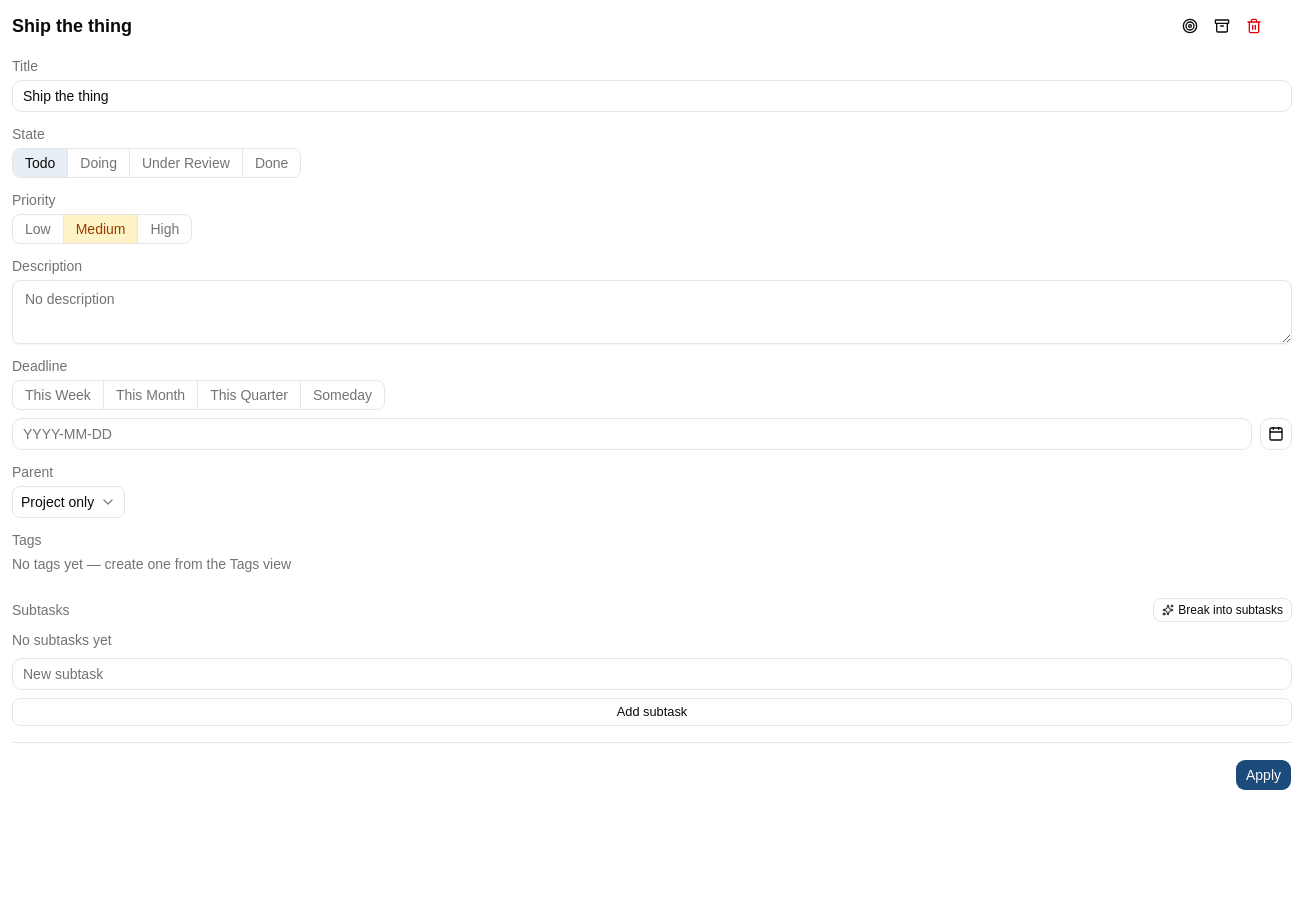
Test: TaskDetailPanel — fuzzy deadline › shows an error when setting a fuzzy deadline fails
Click the button "This Week".
click(58, 395)  # box [13,381,103,409]
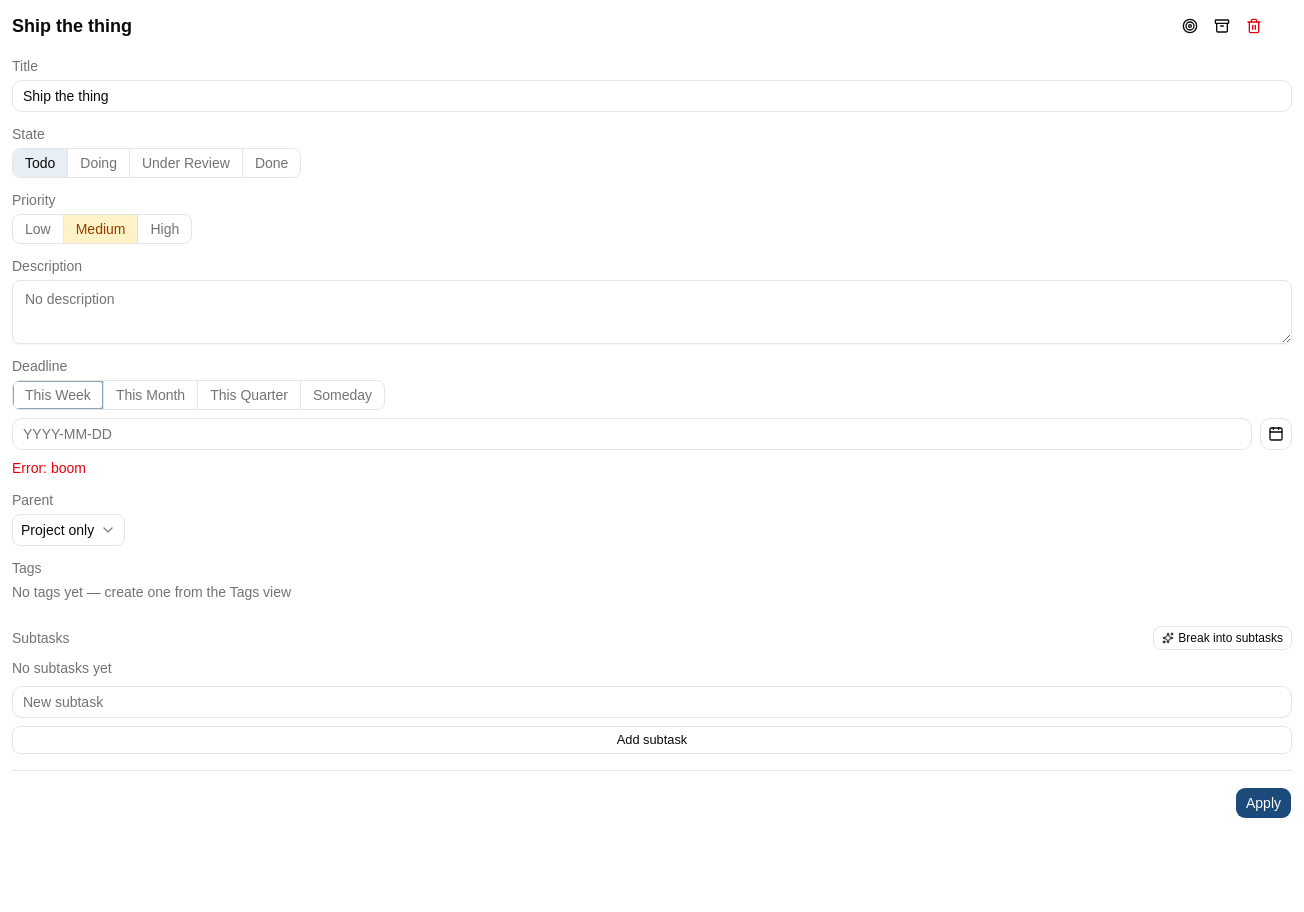
Check: the text "Error: boom" is shown, box [12,460,86,476]
